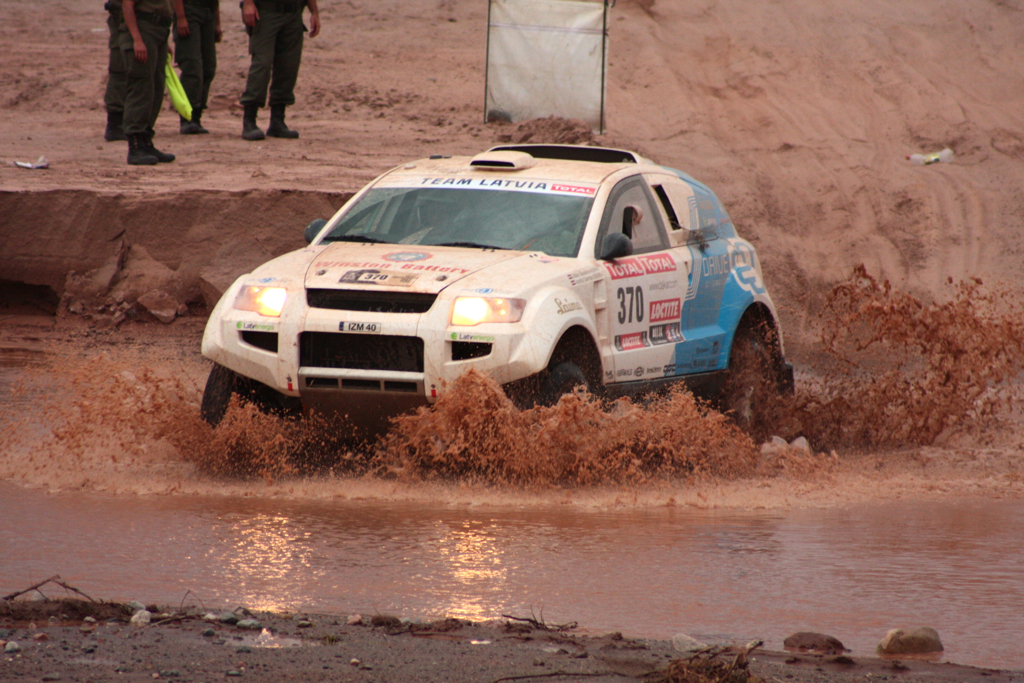Car: (199, 140, 796, 443)
